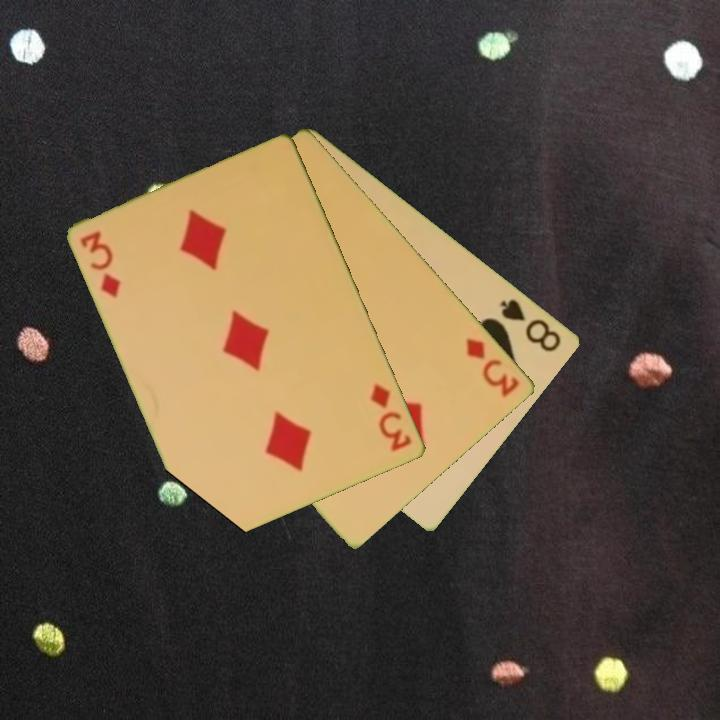3d: (462, 334, 523, 401), (367, 380, 416, 455), (76, 227, 124, 302)
8s: (497, 295, 565, 355)
